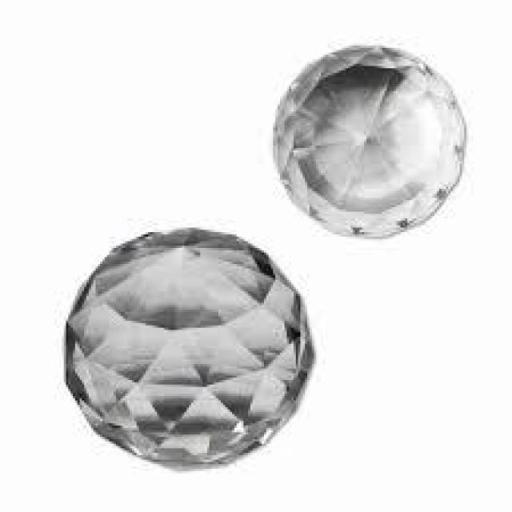glass: (47, 217, 328, 482), (272, 45, 463, 235)
